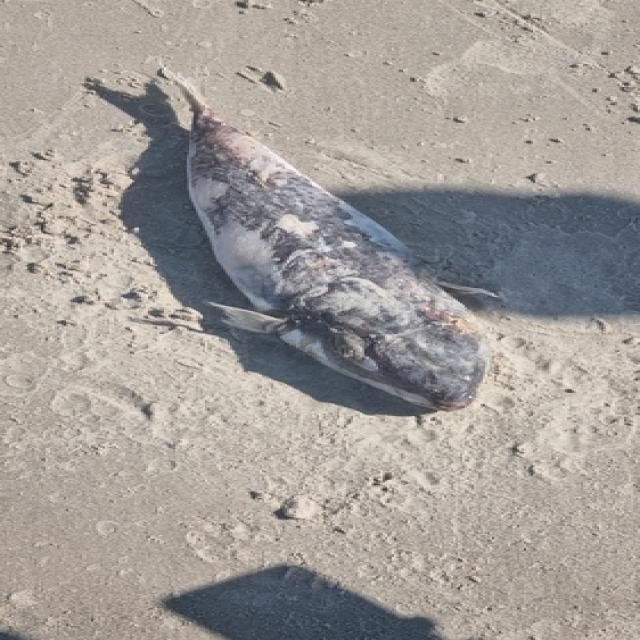Balik: (164, 70, 487, 410)
